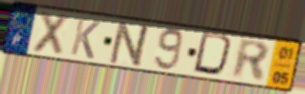9: (151, 26, 185, 73)
D: (190, 31, 238, 79)
K: (68, 16, 103, 61)
N: (106, 20, 155, 69)
R: (230, 37, 271, 84)
X: (29, 9, 72, 59)
